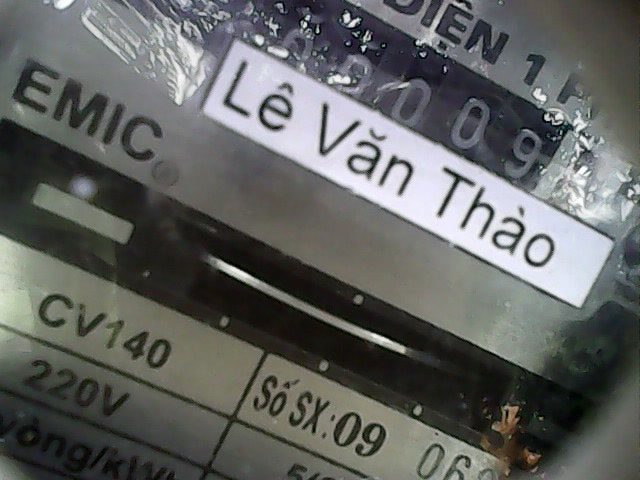phy_plate: (259, 1, 559, 206)
